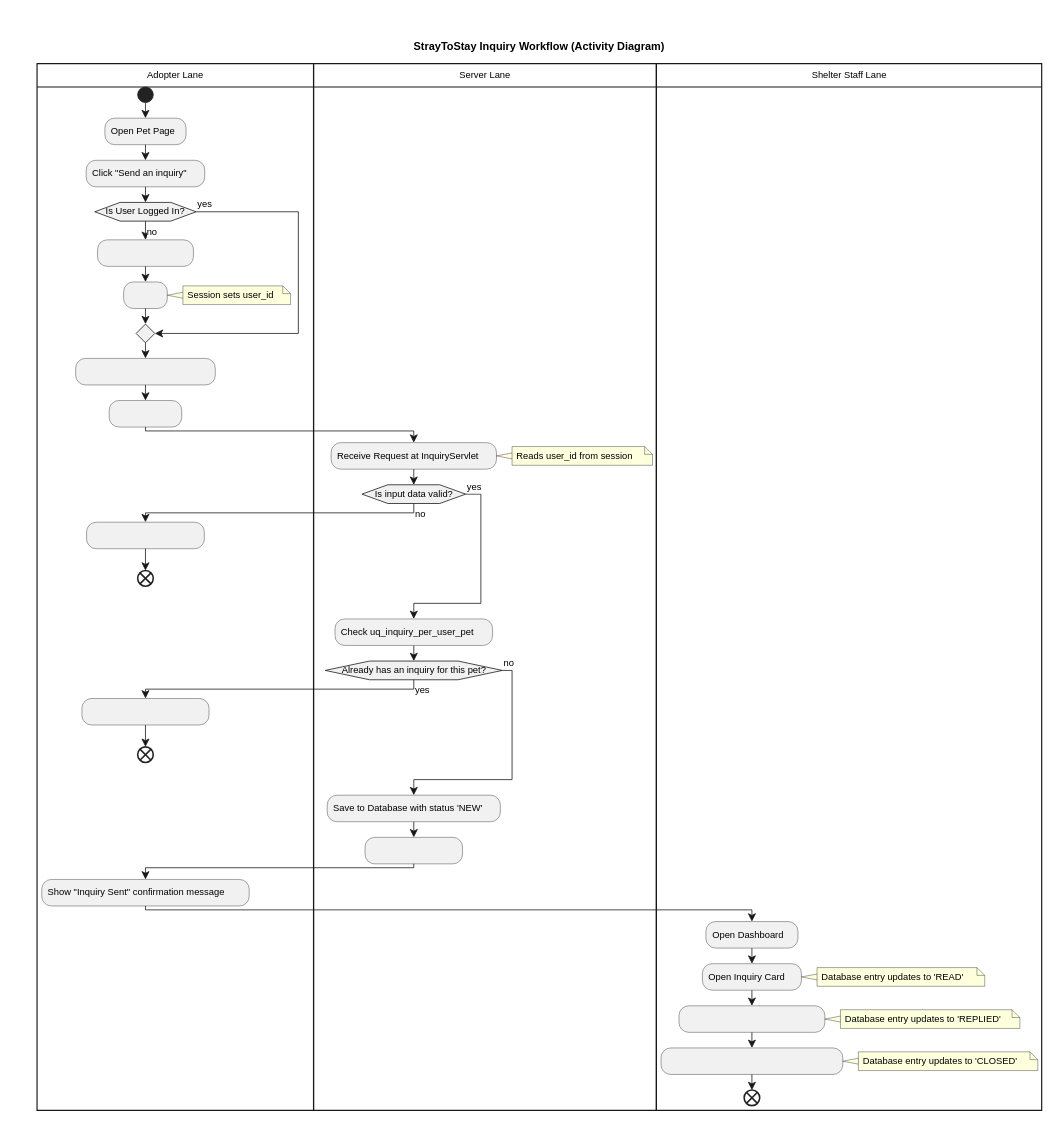
This 1055x1124 diagram has some shape labels left out. Each missing label, with the centre of its shape:
"Click Submit" goes at (x=145, y=413).
"Complete Conversation / Close Card" goes at (x=752, y=1060).
"Email Shelter Staff" goes at (x=413, y=850).
"Fill Inquiry Type & Message" goes at (x=145, y=371).
"Log In" goes at (x=145, y=294).
"Redirect to /login" goes at (x=145, y=252).
"Show Duplicate Message" goes at (x=145, y=711).
"Show Validation Errors" goes at (x=145, y=535).
"Type Response & Click Reply" goes at (x=751, y=1018).
